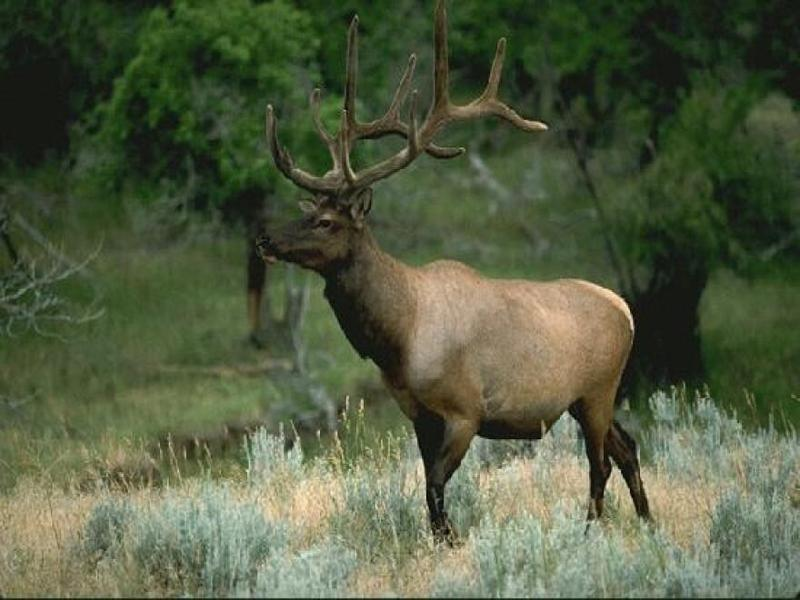elk: (255, 20, 661, 529)
